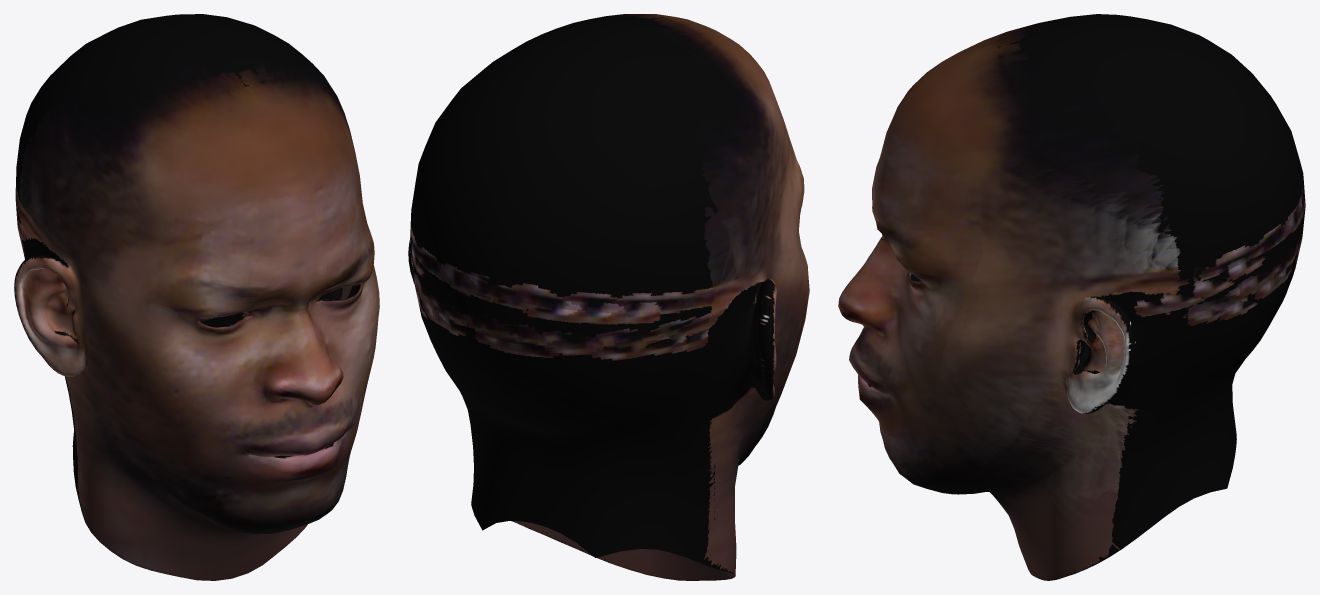
Rendered from BrowsDown.obj.
3 views of the same model, side by side, from view 1: azimuth 30°, elevation 25°; view 2: azimuth 150°, elevation 25°; view 3: azimuth 270°, elevation 25° (orthographic). The views are drawn at different scales.
Bounding box in the file's own units: 191 × 281 × 224.
